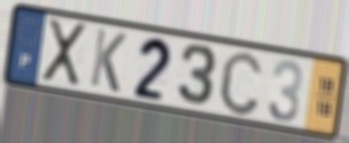2: (130, 33, 175, 106)
3: (176, 42, 220, 109), (267, 58, 304, 123)
C: (216, 49, 264, 119)
K: (87, 26, 129, 96)
X: (40, 16, 88, 89)
